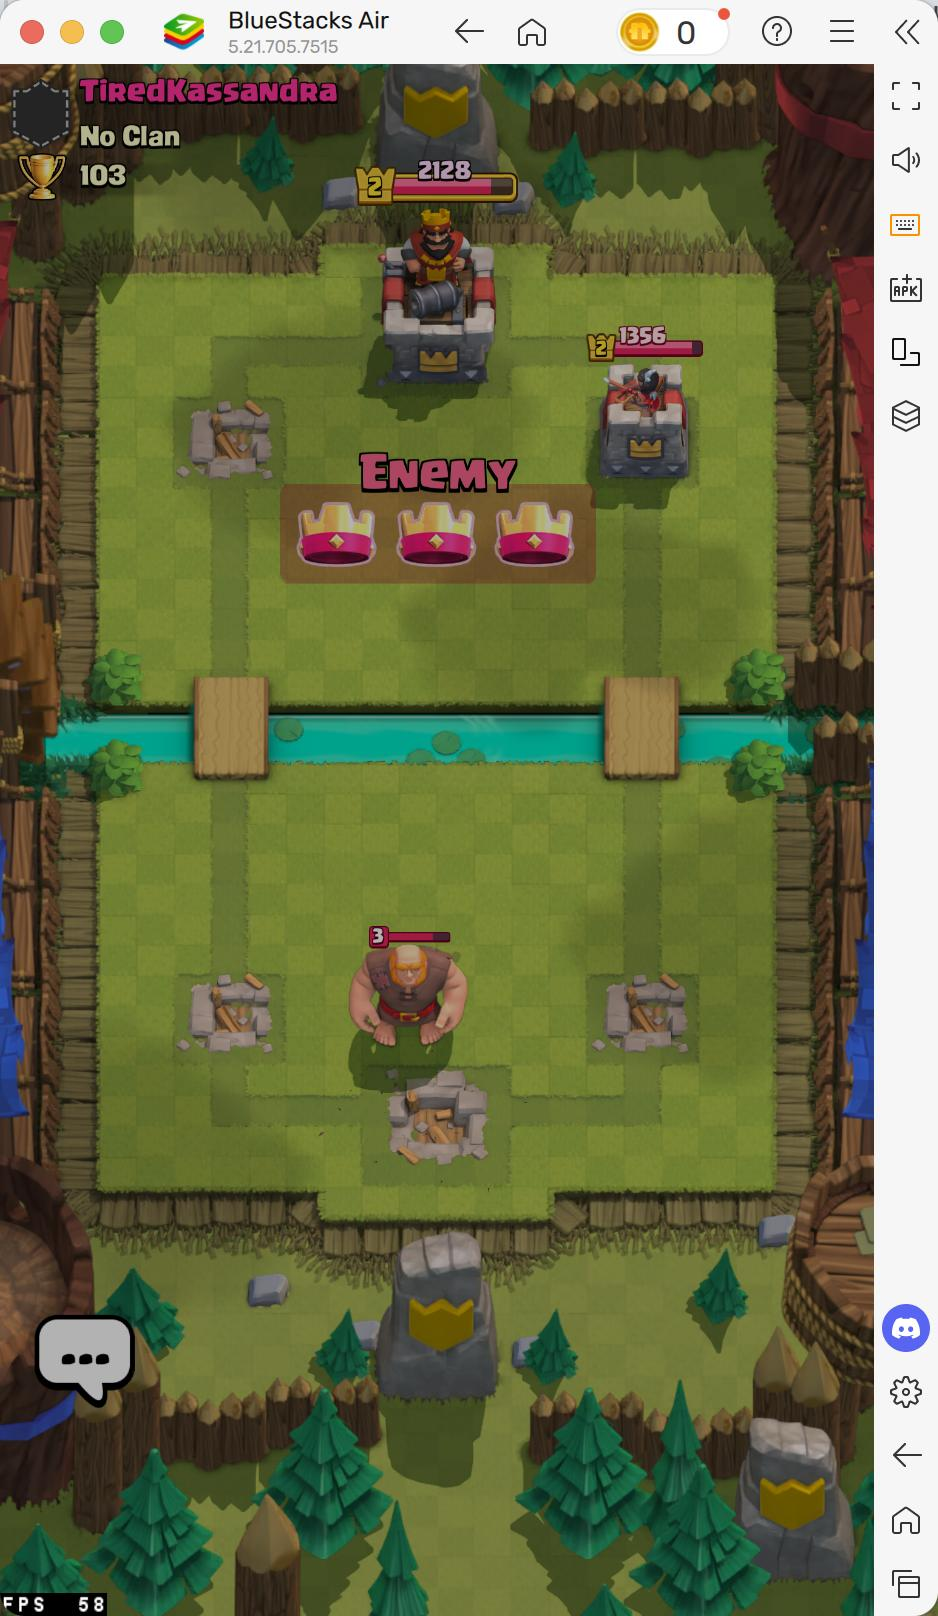1: (431, 158, 441, 182), (618, 325, 629, 345)
2: (439, 157, 457, 183), (417, 158, 433, 182)
3: (626, 324, 641, 346)
5: (639, 324, 653, 346)
7: (652, 324, 668, 347)
Battle: (454, 160, 472, 182)
Enemy Tower: (596, 360, 692, 481)
